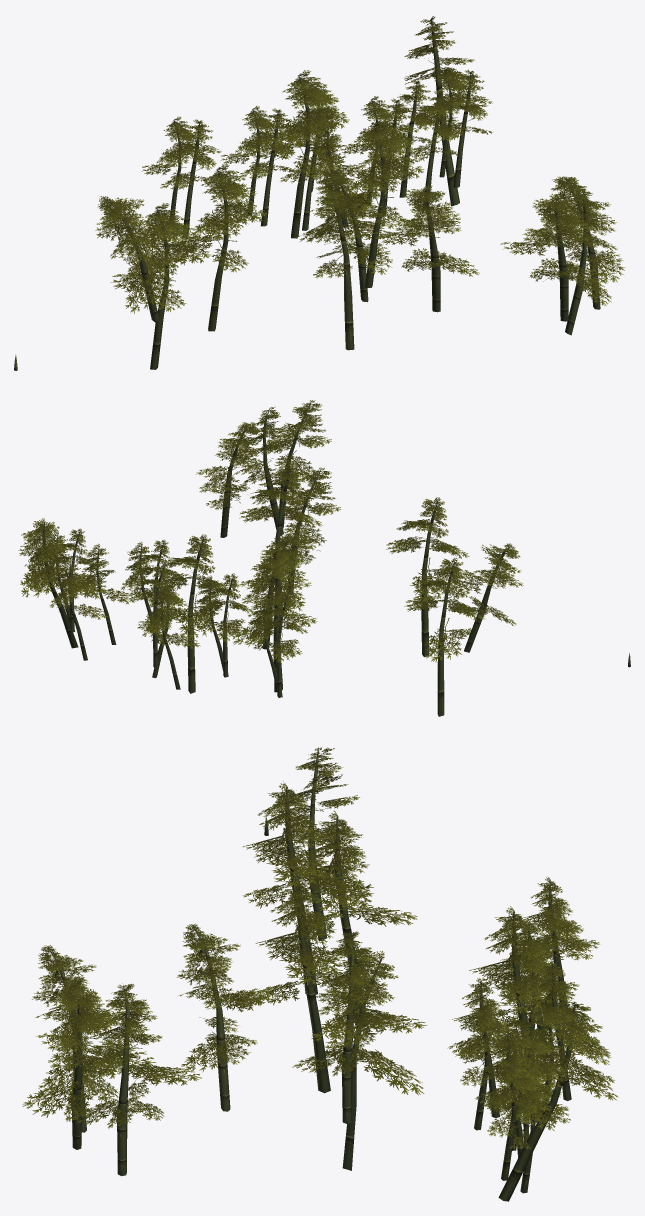
File: Area_15_23.fbx
3 renders of one model, top to bottom at view 1: azimuth 30°, elevation 25°; view 2: azimuth 150°, elevation 25°; view 3: azimuth 270°, elevation 25°, orthographic. The views are drawn at different scales.
Visible parts, largest first — view 1: Area_15_23; view 2: Area_15_23; view 3: Area_15_23.
Boxes of the visible parts, x1,y1,x2,y2 form: Area_15_23: [14, 16, 625, 370]; Area_15_23: [18, 400, 630, 716]; Area_15_23: [22, 747, 618, 1201].
Size of the model in its own units: 6841 by 2696 by 5089.
